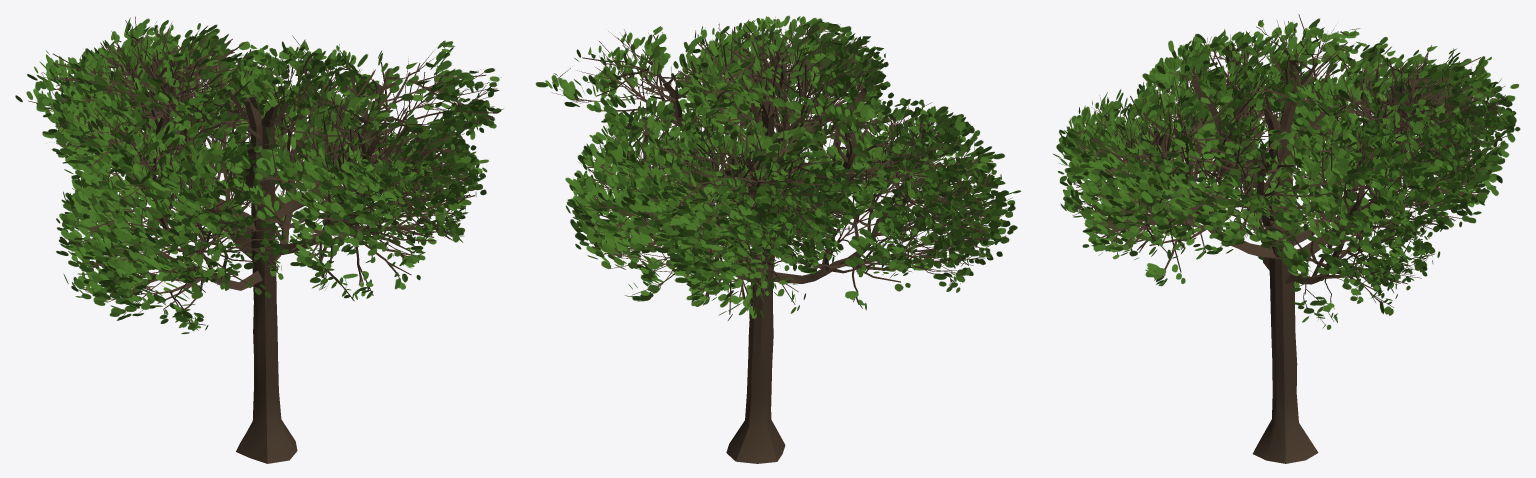
The picture shows the model from 3 angles, left to right: view 1: azimuth 30°, elevation 25°; view 2: azimuth 150°, elevation 25°; view 3: azimuth 270°, elevation 25°; orthographic projection. The views are drawn at different scales.
Parts seen in each view (by area): view 1: oak 01.001_trunk_Mat.001_0.160; view 2: oak 01.001_trunk_Mat.001_0.160; view 3: oak 01.001_trunk_Mat.001_0.160.
Part boxes in pixels (<box>): oak 01.001_trunk_Mat.001_0.160: <box>15,16,503,463</box>; oak 01.001_trunk_Mat.001_0.160: <box>535,15,1020,463</box>; oak 01.001_trunk_Mat.001_0.160: <box>1053,14,1520,463</box>.
Size of the model in its own units: 5.38 by 4.38 by 5.17.
Materials: 2 (1 with a texture image).
